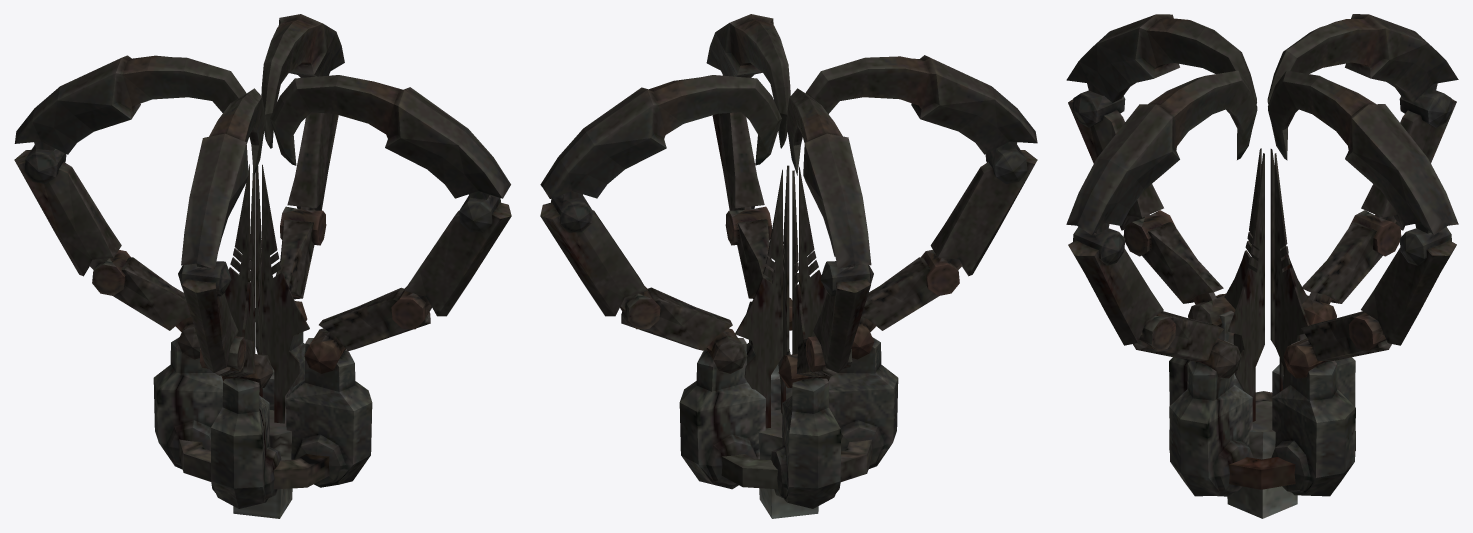
File: Grappling Hook.FBX
The picture shows the model from 3 angles, left to right: view 1: azimuth 30°, elevation 25°; view 2: azimuth 150°, elevation 25°; view 3: azimuth 270°, elevation 25°; orthographic projection. The views are drawn at different scales.
Visible parts, largest first — view 1: rdmobj01; view 2: rdmobj01; view 3: rdmobj01.
Boxes of the visible parts, bbox=[...] form: rdmobj01: bbox=[14, 14, 511, 518]; rdmobj01: bbox=[540, 14, 1037, 518]; rdmobj01: bbox=[1066, 14, 1458, 518].
Size of the model in its own units: 19.9 by 25.32 by 19.9.
Materials: 1 (1 with a texture image).
